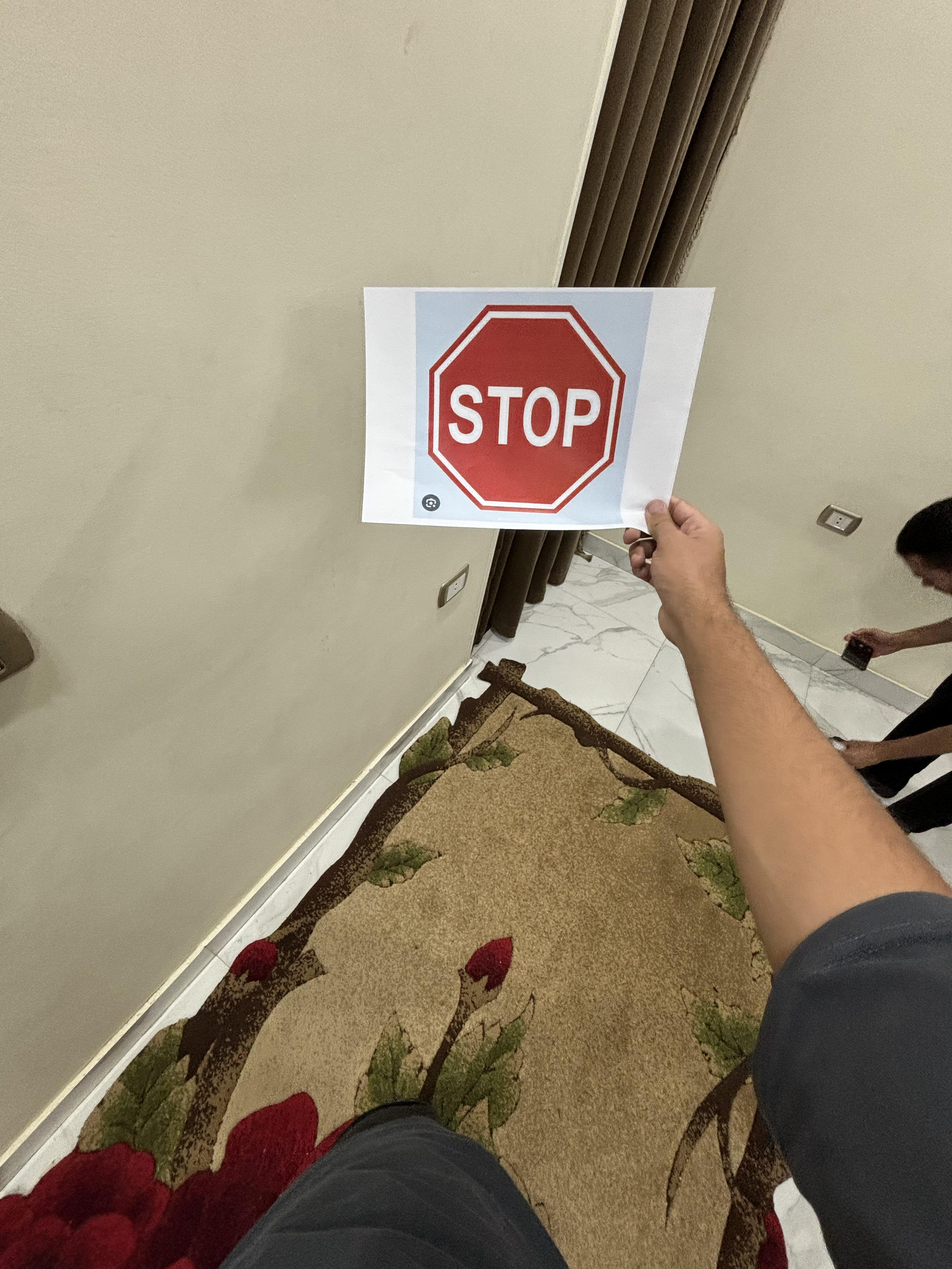Stop: (420, 293, 640, 518)
